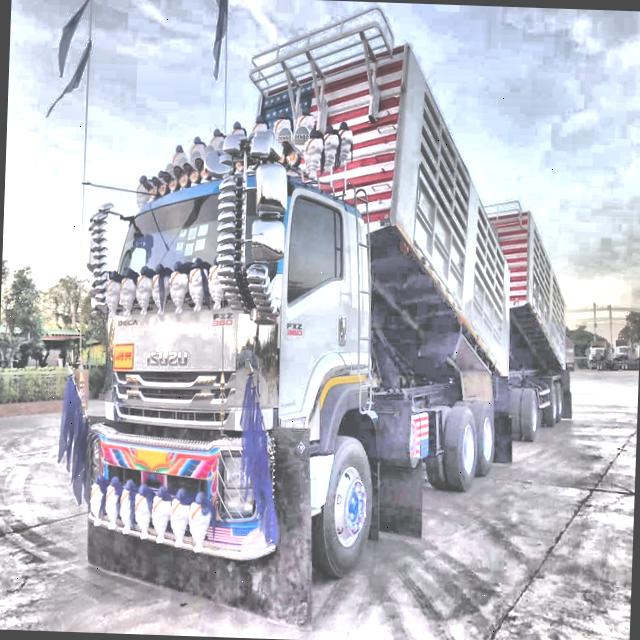trailer: (77, 0, 580, 596)
